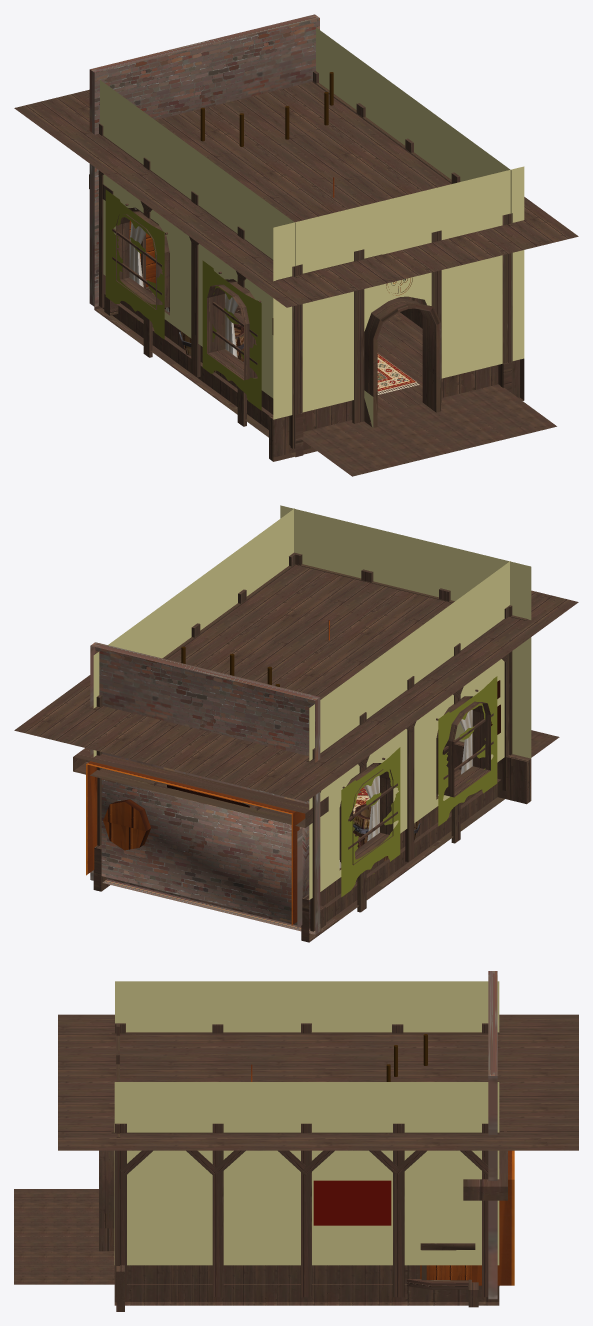
Rendered from escenariO2bar.fbx.
3 views of the same model, one above another, from view 1: azimuth 30°, elevation 25°; view 2: azimuth 150°, elevation 25°; view 3: azimuth 270°, elevation 25° (orthographic). The views are drawn at different scales.
Visible parts, largest first — view 1: techo, pared puerta, pared izq, pared fondo, suelo.001, pared derecha, suelo, cristal ventana, cristal ventana.001, Cube.025, Cube.019, Cube.023 (+6 smaller); view 2: techo, pared fondo, pared izq, pared puerta, pared derecha, estanteria fondo, deco estanteria.010, cristal ventana, cristal ventana.001, Cube.019, Cube.018, Cube.017; view 3: pared derecha, techo, pared izq, suelo.001, pizarra recetas, pared fondo, pared puerta, estanteria fondo, Cube.015, Cube.011, Cube.014, deco estanteria.010 (+7 smaller).
Boxes of the visible parts, x1=… form: techo: x1=14, y1=81, x2=578, y2=307; pared puerta: x1=269, y1=166, x2=524, y2=461; pared izq: x1=94, y1=80, x2=303, y2=457; pared fondo: x1=89, y1=14, x2=319, y2=306; suelo.001: x1=300, y1=384, x2=556, y2=476; pared derecha: x1=316, y1=27, x2=511, y2=392; suelo: x1=117, y1=293, x2=422, y2=415; cristal ventana: x1=105, y1=189, x2=164, y2=339; cristal ventana.001: x1=202, y1=260, x2=261, y2=410; Cube.025: x1=352, y1=249, x2=364, y2=423; Cube.019: x1=191, y1=191, x2=200, y2=377; Cube.023: x1=500, y1=213, x2=512, y2=393; techo: x1=14, y1=564, x2=578, y2=801; pared fondo: x1=90, y1=642, x2=320, y2=934; pared izq: x1=301, y1=561, x2=510, y2=942; pared puerta: x1=280, y1=505, x2=531, y2=804; pared derecha: x1=93, y1=508, x2=294, y2=891; estanteria fondo: x1=86, y1=761, x2=305, y2=925; deco estanteria.010: x1=73, y1=748, x2=328, y2=827; cristal ventana: x1=341, y1=747, x2=400, y2=897; cristal ventana.001: x1=438, y1=676, x2=497, y2=826; Cube.019: x1=405, y1=676, x2=414, y2=862; Cube.018: x1=502, y1=605, x2=510, y2=790; Cube.017: x1=310, y1=748, x2=315, y2=931; pared derecha: x1=114, y1=1082, x2=499, y2=1305; techo: x1=58, y1=1014, x2=578, y2=1150; pared izq: x1=115, y1=981, x2=499, y2=1032; suelo.001: x1=14, y1=1189, x2=114, y2=1284; pizarra recetas: x1=313, y1=1180, x2=391, y2=1225; pared fondo: x1=488, y1=971, x2=497, y2=1299; pared puerta: x1=99, y1=1150, x2=124, y2=1311; estanteria fondo: x1=472, y1=1150, x2=514, y2=1285; Cube.015: x1=212, y1=1123, x2=223, y2=1297; Cube.011: x1=393, y1=1123, x2=403, y2=1297; Cube.014: x1=301, y1=1123, x2=311, y2=1297; deco estanteria.010: x1=463, y1=1150, x2=507, y2=1200.
Bounding box in the file's own units: 569 × 464 × 999.
